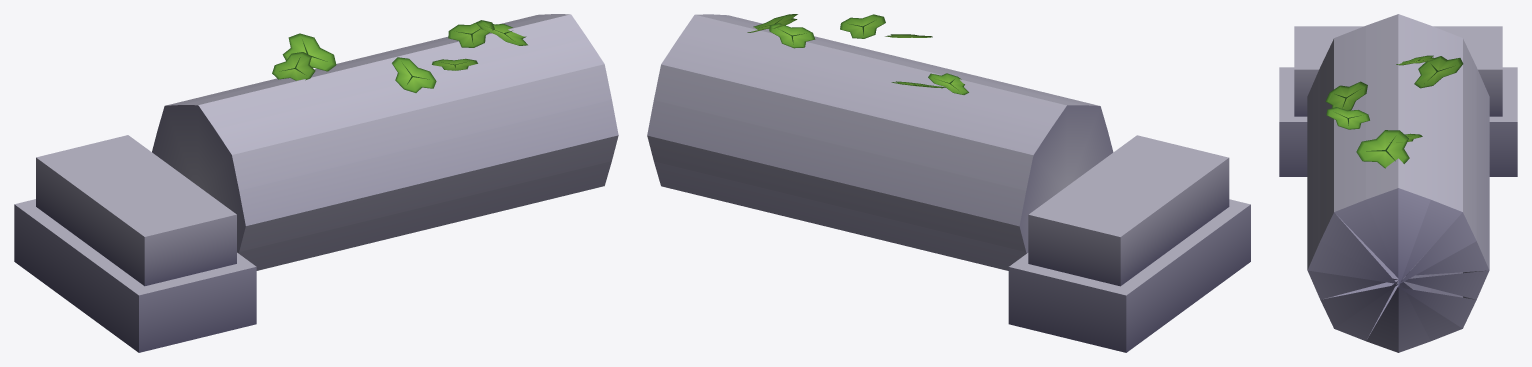
File: cel_column.glb
The picture shows the model from 3 angles, left to right: view 1: azimuth 30°, elevation 25°; view 2: azimuth 150°, elevation 25°; view 3: azimuth 270°, elevation 25°; orthographic projection. The views are drawn at different scales.
Parts seen in each view (by area): view 1: column; view 2: column; view 3: column.
Part boxes in pixels (x1=…): column: x1=14, y1=14, x2=618, y2=352; column: x1=647, y1=14, x2=1250, y2=352; column: x1=1279, y1=14, x2=1517, y2=352.
Size of the model in its own units: 2.71 by 0.913 by 1.1.
